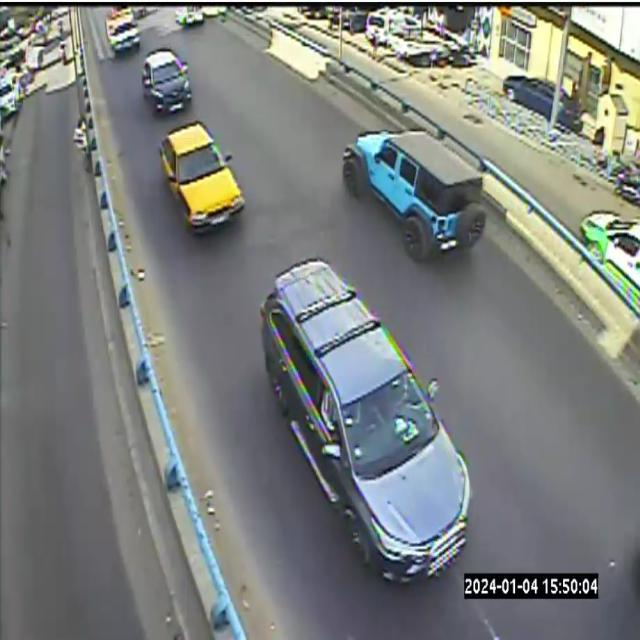car: (261, 259, 470, 581), (341, 131, 486, 261), (160, 121, 244, 231), (142, 48, 191, 112), (105, 10, 139, 53)
